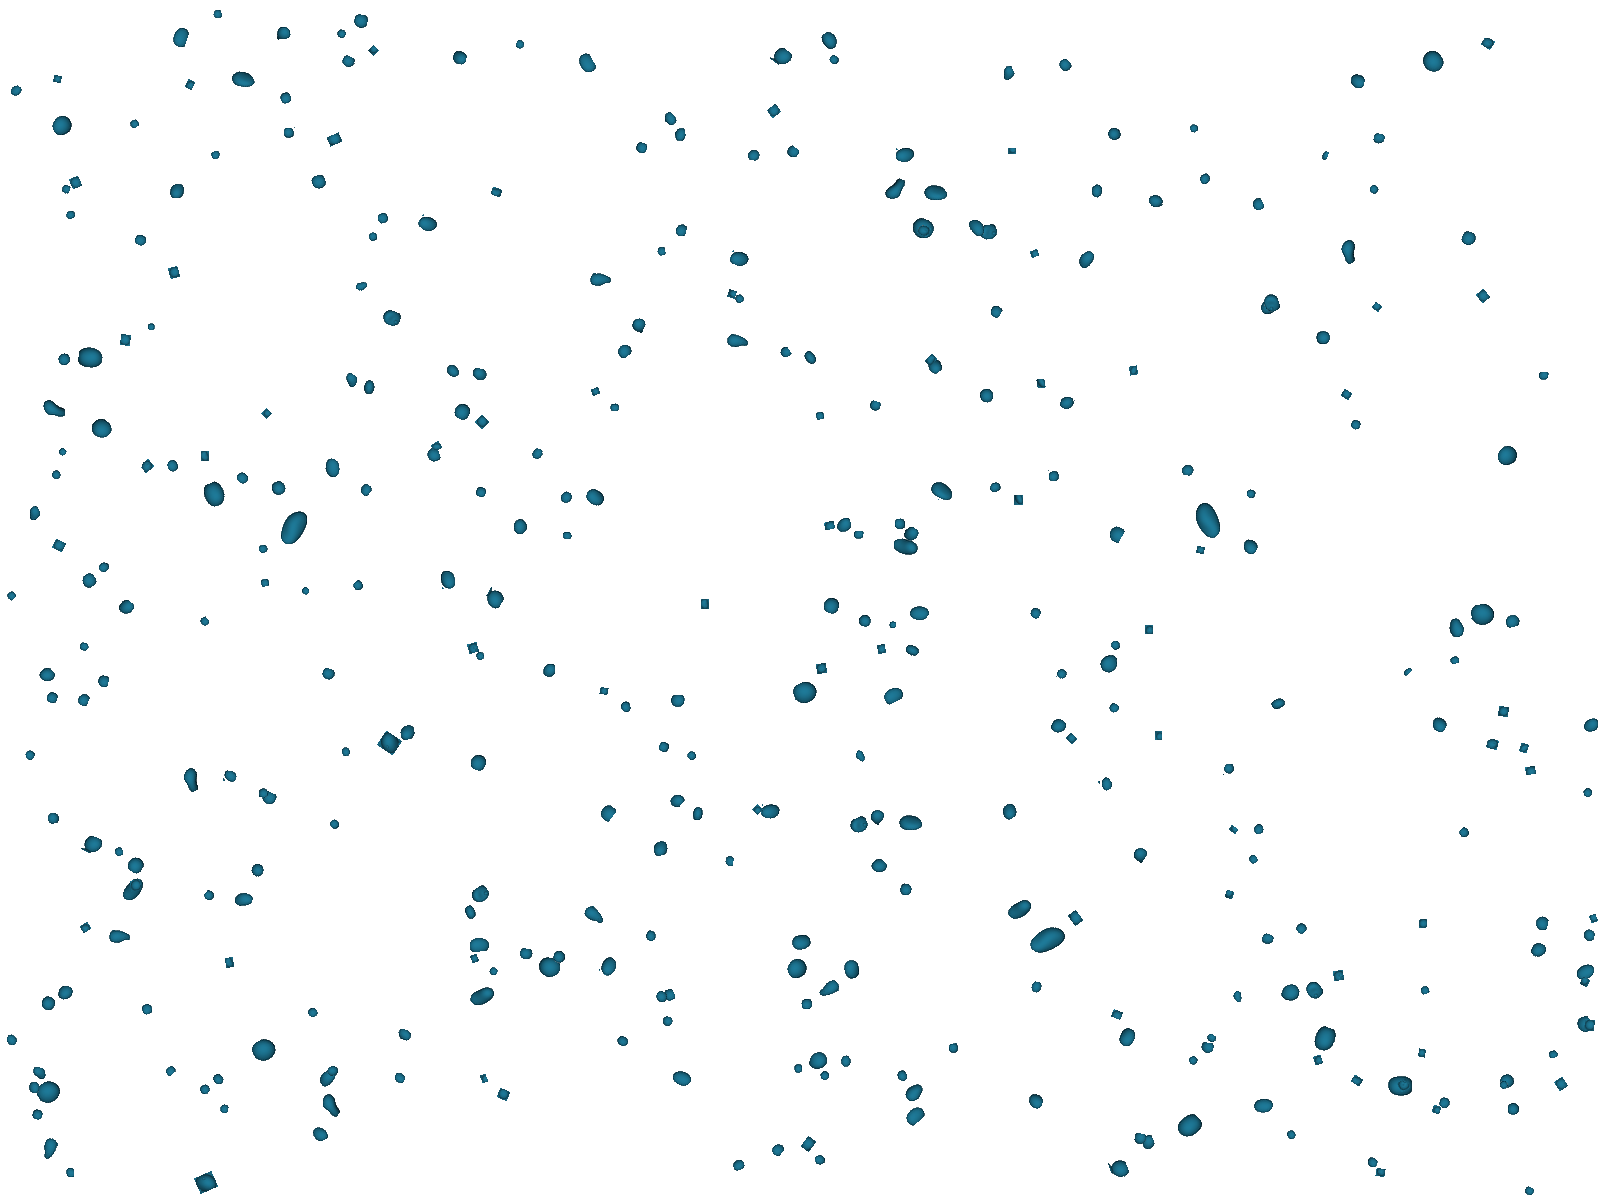drop: (1026, 916, 1070, 962), (1186, 498, 1230, 542), (467, 979, 501, 1013), (31, 1076, 66, 1109), (1005, 892, 1038, 926), (248, 1034, 281, 1066), (278, 509, 309, 545), (789, 677, 821, 708), (1173, 1111, 1206, 1142), (84, 413, 116, 445), (1416, 45, 1448, 77), (47, 108, 77, 139), (782, 952, 813, 982), (200, 479, 229, 511), (1493, 439, 1522, 469), (907, 214, 937, 243), (121, 872, 147, 905), (921, 179, 950, 208), (896, 809, 925, 838), (1468, 601, 1498, 629), (1311, 1024, 1339, 1054), (668, 1063, 695, 1092), (229, 66, 257, 95), (317, 1092, 346, 1119), (901, 1100, 929, 1128), (179, 765, 205, 794), (818, 26, 844, 54), (905, 599, 932, 625), (375, 730, 403, 756), (1337, 237, 1362, 266), (1300, 977, 1327, 1003), (769, 44, 795, 71), (1249, 1092, 1276, 1117), (900, 1080, 927, 1105), (892, 536, 922, 558), (1256, 292, 1283, 318), (573, 50, 598, 77), (596, 953, 621, 979), (414, 211, 441, 236), (581, 903, 607, 928), (193, 1170, 219, 1195), (883, 175, 907, 203), (319, 456, 344, 482), (535, 955, 562, 979), (582, 485, 609, 509), (879, 682, 906, 706), (593, 800, 619, 824), (1279, 979, 1303, 1005), (1097, 652, 1121, 677), (467, 884, 493, 908), (1259, 290, 1283, 315), (1073, 248, 1099, 272), (168, 24, 191, 49), (483, 586, 506, 611), (847, 814, 871, 838), (315, 1066, 339, 1090), (81, 833, 105, 857), (1107, 1157, 1131, 1181), (378, 308, 403, 330), (727, 247, 752, 270), (816, 977, 842, 1000), (1387, 1075, 1414, 1097), (123, 853, 147, 876), (868, 855, 891, 879), (78, 347, 103, 368), (1116, 1025, 1138, 1050), (39, 1136, 60, 1161), (1104, 522, 1126, 545), (930, 480, 952, 503), (508, 516, 530, 538), (37, 664, 59, 687), (820, 594, 842, 616), (451, 400, 472, 422), (1446, 616, 1466, 640), (789, 932, 813, 952), (842, 957, 862, 981), (966, 216, 986, 239), (758, 800, 782, 821), (42, 400, 67, 418), (724, 332, 750, 350), (467, 751, 489, 773), (614, 339, 635, 361), (1048, 716, 1070, 737), (78, 570, 100, 591), (665, 789, 687, 811), (999, 800, 1020, 822), (976, 223, 999, 243), (310, 1122, 330, 1145), (1572, 1015, 1592, 1036), (1528, 940, 1550, 961), (1495, 1071, 1517, 1092), (268, 478, 289, 499), (116, 597, 137, 618), (901, 524, 921, 545), (925, 355, 945, 376), (258, 789, 278, 809), (1459, 229, 1479, 250), (1136, 1133, 1157, 1153), (341, 371, 362, 391), (38, 993, 58, 1013), (976, 386, 997, 406), (1240, 537, 1260, 557), (1429, 715, 1449, 735), (867, 805, 887, 826), (1105, 124, 1125, 144), (1574, 962, 1595, 981), (894, 145, 916, 164), (809, 1050, 828, 1070), (423, 445, 442, 465), (1087, 182, 1107, 200), (833, 516, 853, 534), (24, 504, 43, 524), (1054, 55, 1073, 76), (1130, 845, 1150, 863), (1146, 192, 1167, 211), (438, 568, 456, 590), (232, 891, 254, 908), (108, 929, 131, 945), (309, 173, 328, 192), (769, 1139, 787, 1158), (998, 64, 1017, 83), (1026, 1092, 1044, 1111), (629, 315, 648, 334), (248, 860, 267, 879), (557, 489, 576, 508), (651, 987, 670, 1006), (55, 984, 76, 1002), (469, 935, 490, 952), (590, 272, 612, 287), (1503, 611, 1522, 629), (132, 231, 150, 250), (661, 110, 679, 129), (801, 348, 819, 367), (784, 144, 803, 161), (1532, 914, 1550, 932), (351, 13, 369, 30), (551, 948, 568, 966), (1249, 195, 1266, 213), (1097, 775, 1115, 793), (234, 469, 252, 487), (319, 666, 336, 683), (339, 53, 357, 71), (986, 303, 1004, 320), (800, 1134, 816, 1153), (76, 689, 92, 708), (1269, 696, 1288, 712), (1067, 909, 1083, 926), (1581, 717, 1599, 734), (855, 613, 873, 629), (673, 221, 689, 238), (357, 482, 374, 498), (1293, 920, 1310, 937), (94, 558, 112, 575), (614, 1034, 631, 1050), (1058, 395, 1076, 411), (3, 1032, 20, 1049), (653, 839, 669, 857), (462, 903, 477, 921), (451, 49, 467, 66), (474, 413, 490, 430), (55, 352, 72, 368), (304, 1005, 320, 1021), (776, 344, 792, 361), (472, 484, 489, 500), (1349, 73, 1366, 89), (643, 928, 659, 944), (1027, 605, 1043, 621), (8, 83, 24, 100), (169, 183, 185, 199), (1230, 988, 1246, 1005), (1283, 1127, 1299, 1143), (139, 458, 155, 474), (669, 695, 687, 710), (540, 662, 556, 679), (396, 1027, 413, 1042), (903, 643, 921, 658), (661, 987, 677, 1005), (326, 132, 343, 147), (222, 769, 238, 784), (898, 882, 913, 899), (202, 887, 217, 904), (350, 579, 367, 594), (1456, 824, 1471, 841), (278, 89, 294, 106), (31, 1066, 48, 1082), (656, 739, 671, 755), (1315, 330, 1332, 345), (1364, 1155, 1380, 1171), (513, 38, 528, 54), (276, 25, 292, 40), (894, 1068, 910, 1084), (210, 1071, 226, 1088), (1197, 171, 1213, 187), (353, 279, 369, 294), (1475, 287, 1490, 304), (50, 538, 67, 553), (766, 103, 782, 118), (338, 744, 353, 760), (916, 223, 932, 238), (496, 1087, 511, 1102), (472, 368, 488, 383), (1506, 1100, 1521, 1116), (21, 747, 37, 763), (1106, 701, 1121, 716), (1437, 1095, 1453, 1111), (375, 211, 391, 226), (731, 1157, 746, 1172), (1260, 932, 1275, 947), (30, 1107, 45, 1122), (334, 26, 349, 42), (732, 291, 747, 306), (163, 1063, 178, 1078), (816, 1068, 831, 1083), (1580, 785, 1595, 800), (1366, 182, 1381, 197), (826, 52, 842, 67), (838, 1054, 853, 1069), (853, 747, 868, 763), (1553, 1076, 1569, 1092), (68, 175, 83, 190), (63, 207, 78, 222), (472, 649, 488, 664), (1054, 666, 1070, 681), (197, 1082, 212, 1097), (1480, 35, 1495, 50), (1396, 1078, 1411, 1093), (166, 458, 180, 474), (986, 480, 1003, 494), (328, 816, 341, 832), (168, 265, 181, 280), (45, 689, 59, 705), (634, 141, 649, 155), (867, 400, 882, 413), (673, 127, 687, 142), (96, 674, 110, 689), (685, 747, 699, 763), (1243, 487, 1259, 500), (923, 353, 939, 367), (392, 1071, 407, 1085), (401, 725, 414, 740), (1495, 1078, 1511, 1092), (1485, 737, 1500, 751), (692, 805, 704, 822), (446, 364, 460, 378), (129, 879, 142, 892), (257, 787, 271, 800), (140, 1002, 154, 1016), (1372, 132, 1386, 146), (1251, 822, 1265, 836), (813, 1152, 826, 1166), (619, 700, 632, 713), (1109, 638, 1123, 652), (530, 447, 544, 461), (118, 333, 132, 347), (77, 640, 91, 654), (486, 966, 500, 979), (299, 584, 312, 597), (198, 615, 212, 629), (1497, 705, 1511, 718), (466, 642, 480, 655), (1180, 464, 1196, 476), (1584, 1018, 1596, 1032), (430, 440, 443, 453), (367, 44, 380, 57), (893, 517, 907, 529), (47, 812, 60, 824), (800, 997, 813, 1011), (747, 149, 761, 161), (26, 1082, 40, 1094), (1204, 1032, 1218, 1045), (519, 948, 533, 961), (367, 229, 379, 243), (1351, 1074, 1364, 1087), (260, 407, 273, 420), (5, 589, 18, 603), (256, 542, 270, 555), (55, 445, 69, 458), (1247, 853, 1260, 867), (1523, 1185, 1537, 1197), (1065, 732, 1078, 745), (1110, 1008, 1124, 1021), (815, 662, 828, 676), (1332, 969, 1346, 982), (1199, 1042, 1214, 1054), (364, 379, 375, 395), (79, 921, 92, 934), (1311, 1054, 1324, 1066), (184, 78, 197, 91), (1579, 976, 1591, 988), (726, 287, 738, 300), (1187, 1054, 1199, 1066), (208, 150, 220, 163), (283, 126, 296, 139), (1047, 469, 1060, 482), (751, 803, 763, 816), (129, 117, 141, 130), (218, 1103, 231, 1116), (1349, 418, 1362, 431), (1340, 388, 1353, 401), (1401, 666, 1414, 678), (1584, 928, 1595, 942), (1448, 654, 1461, 666), (224, 955, 236, 969), (1371, 301, 1383, 313), (947, 1042, 959, 1055), (1547, 1047, 1558, 1060), (1134, 1133, 1146, 1145), (326, 1065, 339, 1076), (490, 187, 503, 198), (814, 410, 826, 421), (60, 183, 72, 195), (1419, 984, 1431, 996), (1031, 981, 1042, 993), (792, 1063, 804, 1075), (1188, 121, 1199, 134), (113, 846, 125, 858), (852, 529, 866, 539), (823, 521, 837, 531), (1587, 913, 1599, 924), (1374, 1167, 1386, 1179), (1518, 742, 1529, 754), (469, 953, 480, 964), (590, 386, 601, 397), (50, 469, 62, 480), (210, 8, 222, 19), (1431, 1104, 1443, 1116), (661, 1016, 673, 1027), (1223, 763, 1233, 775), (1537, 371, 1550, 381), (66, 1166, 76, 1179), (724, 855, 734, 867), (700, 597, 711, 610), (200, 450, 210, 463), (656, 246, 666, 258), (1320, 150, 1330, 163), (1029, 248, 1041, 258), (1144, 624, 1154, 635), (1036, 378, 1046, 389), (1128, 366, 1139, 376), (479, 1073, 489, 1084), (1225, 889, 1235, 900), (609, 402, 620, 412), (260, 577, 271, 587), (1228, 824, 1238, 834), (1417, 1047, 1427, 1058), (598, 686, 609, 696), (562, 529, 572, 539), (146, 321, 156, 332), (1419, 918, 1427, 929), (1524, 766, 1536, 775), (1014, 495, 1023, 505), (888, 620, 897, 630), (877, 644, 886, 654), (53, 74, 62, 83), (1196, 546, 1204, 555), (1007, 147, 1017, 155), (1155, 731, 1162, 740)
